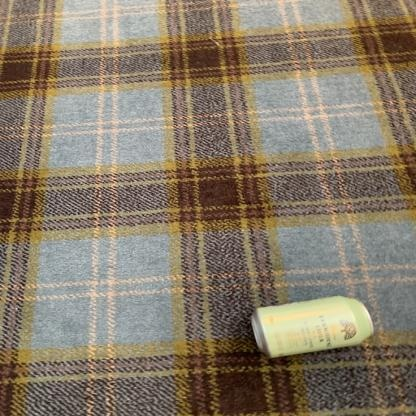trash: (251, 296, 372, 357)
